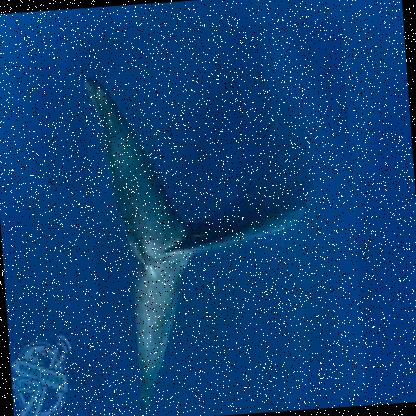blue_whale: (78, 20, 367, 414)
